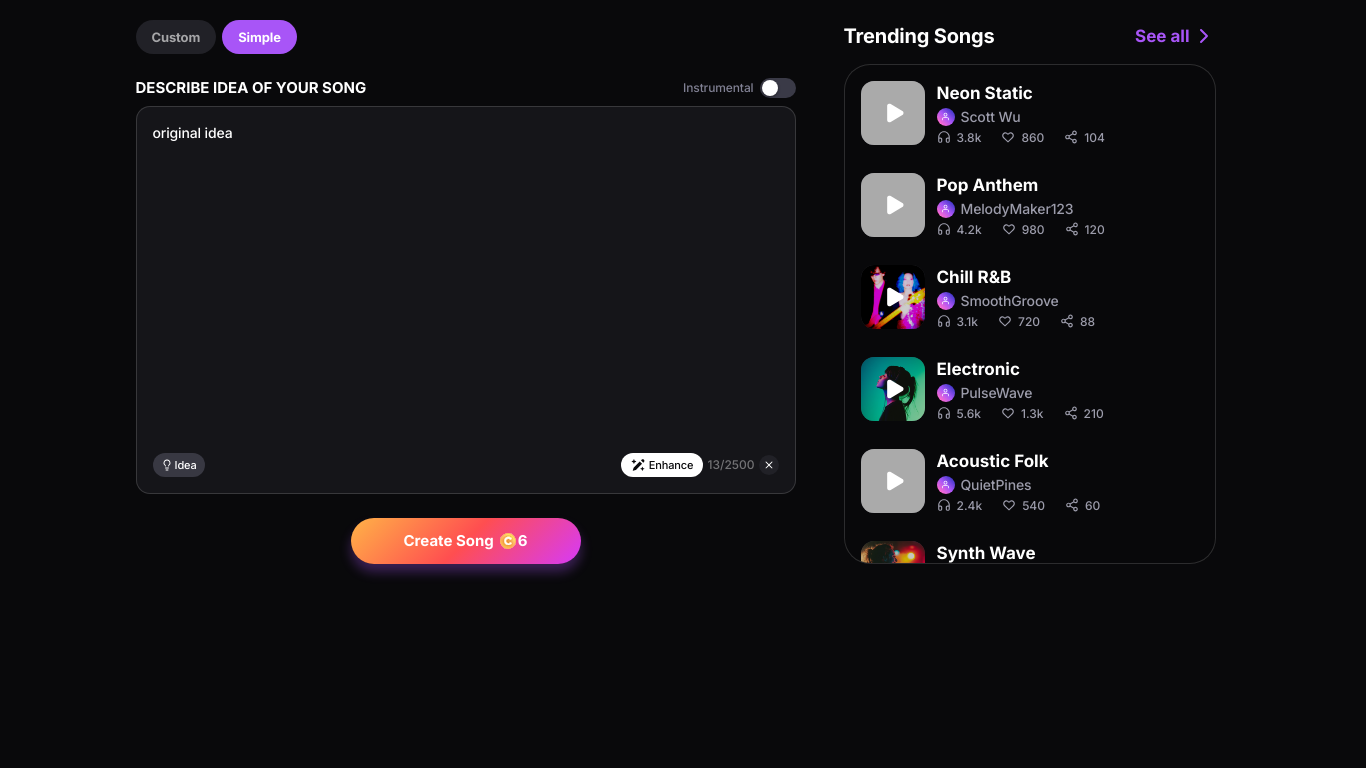
Song Enhance error presentation › uses the demo language state after the API response without overwriting input
This screenshot has width=1366, height=768.
Click the button "Enhance" at point(662, 465), box x1=621 y1=453 x2=703 y2=477
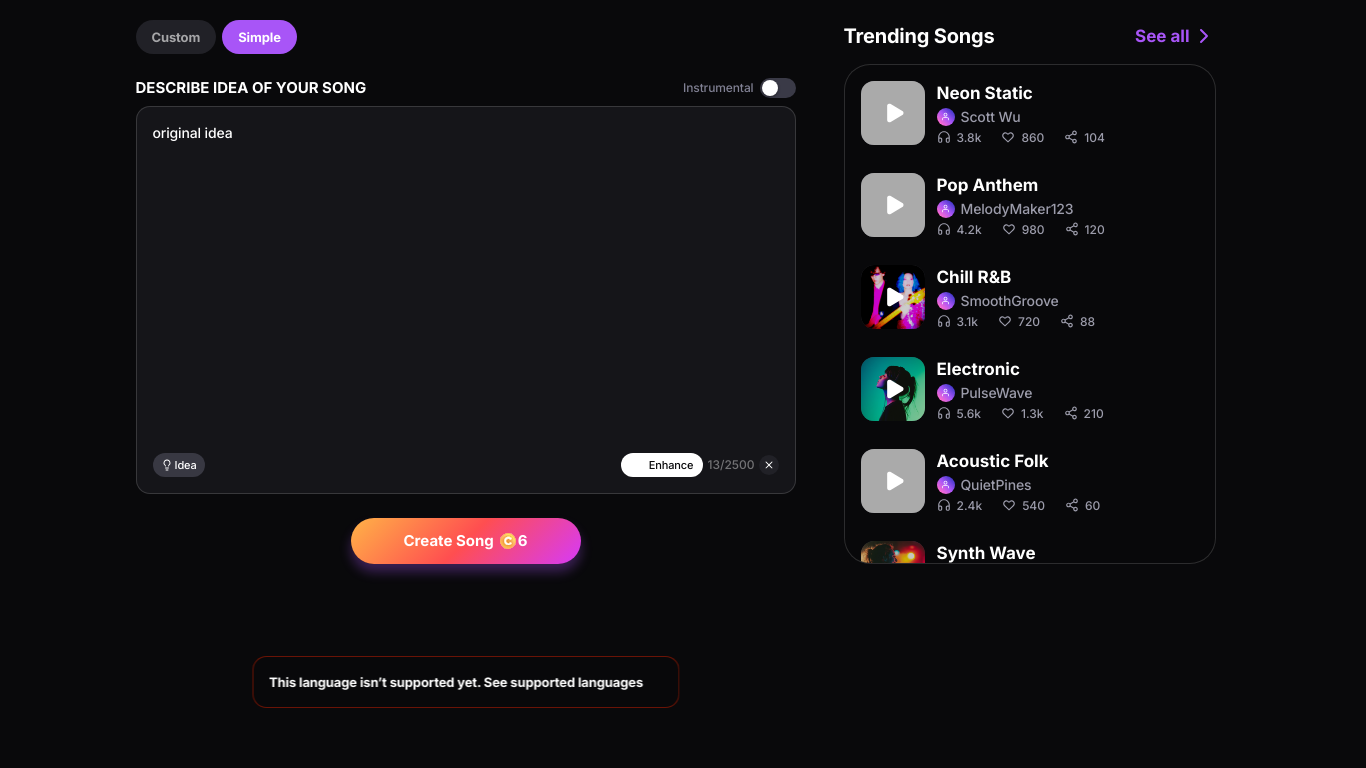
Now the message shows "This language isn’t supported yet.", box x1=269 y1=674 x2=481 y2=690
